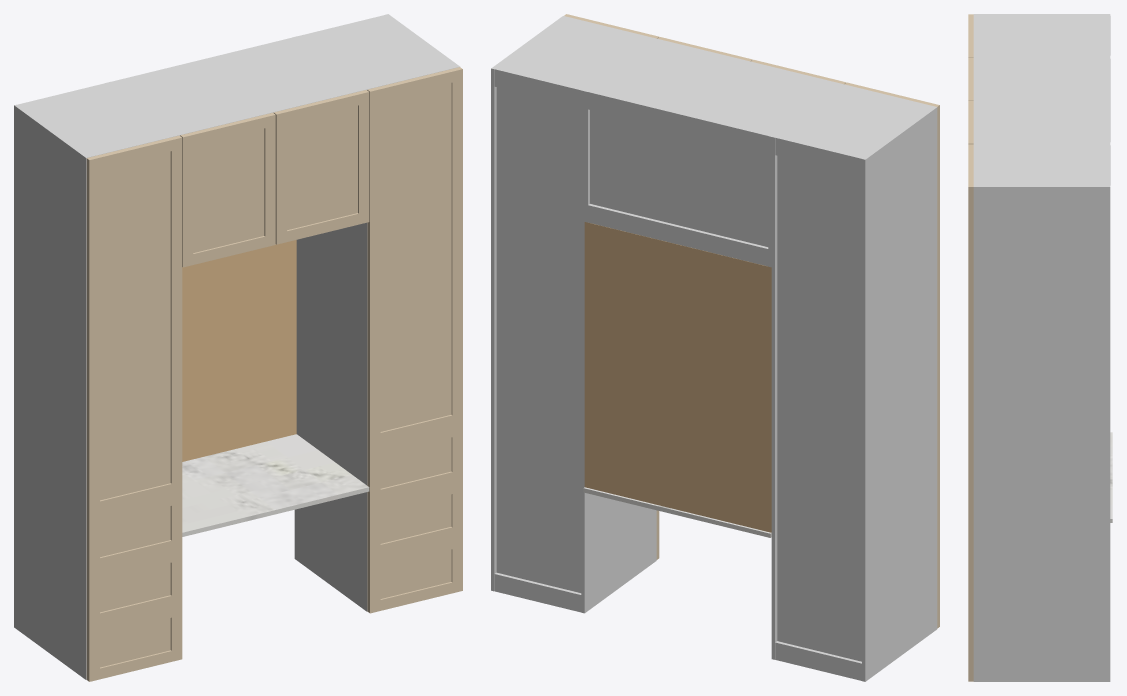
Rendered from Sarita_Abigale.glb.
3 views of the same model, side by side, from view 1: azimuth 30°, elevation 25°; view 2: azimuth 150°, elevation 25°; view 3: azimuth 270°, elevation 25° (orthographic). The views are drawn at different scales.
Visible parts, largest first — view 1: Mixed_005_mesh_000, Mixed_005_mesh_039, Mixed_004_mesh_039, Mixed_004_mesh_000, Kickplate_009_mesh_000, 2_Door_006_mesh_007, Worktop_007_mesh_000, 2_Door_006_mesh_008, 2_Door_006_mesh_009, Mixed_004_mesh_007, Mixed_005_mesh_007, Mixed_005_mesh_043 (+35 smaller); view 2: Kickplate_009_mesh_000, Mixed_004_mesh_006, Mixed_005_mesh_006, Mixed_005_mesh_000, 2_Door_006_mesh_005, 2_Door_006_mesh_007, Mixed_004_mesh_000, Mixed_004_mesh_007, Mixed_005_mesh_007, Mixed_005_mesh_001, 2_Door_006_mesh_003, 2_Door_006_mesh_004 (+11 smaller); view 3: Mixed_004_mesh_001, 2_Door_006_mesh_007, Mixed_005_mesh_007, Mixed_004_mesh_007, Mixed_004_mesh_039, Mixed_004_mesh_043, Mixed_004_mesh_003, Mixed_005_mesh_003, Mixed_004_mesh_000, Mixed_005_mesh_001, 2_Door_006_mesh_000, 2_Door_006_mesh_003 (+3 smaller).
Part boxes in pixels (<box>): Mixed_005_mesh_000: <box>14,104,89,679</box>; Mixed_005_mesh_039: <box>86,135,180,513</box>; Mixed_004_mesh_039: <box>367,67,461,445</box>; Mixed_004_mesh_000: <box>294,36,369,611</box>; Kickplate_009_mesh_000: <box>182,240,296,461</box>; 2_Door_006_mesh_007: <box>114,39,363,134</box>; Worktop_007_mesh_000: <box>182,434,369,536</box>; 2_Door_006_mesh_008: <box>180,112,274,252</box>; 2_Door_006_mesh_009: <box>273,90,367,230</box>; Mixed_004_mesh_007: <box>301,16,455,88</box>; Mixed_005_mesh_007: <box>20,85,174,156</box>; Mixed_005_mesh_043: <box>170,148,182,483</box>; Kickplate_009_mesh_000: <box>584,222,771,532</box>; Mixed_004_mesh_006: <box>496,67,583,592</box>; Mixed_005_mesh_006: <box>777,136,863,661</box>; Mixed_005_mesh_000: <box>862,106,937,681</box>; 2_Door_006_mesh_005: <box>590,90,770,246</box>; 2_Door_006_mesh_007: <box>591,39,839,134</box>; Mixed_004_mesh_000: <box>581,38,656,613</box>; Mixed_004_mesh_007: <box>497,17,652,88</box>; Mixed_005_mesh_007: <box>778,86,931,157</box>; Mixed_005_mesh_001: <box>771,84,846,659</box>; 2_Door_006_mesh_003: <box>588,90,769,153</box>; 2_Door_006_mesh_004: <box>588,204,768,266</box>; Mixed_004_mesh_001: <box>973,185,1110,681</box>; 2_Door_006_mesh_007: <box>973,58,1105,142</box>; Mixed_005_mesh_007: <box>973,15,1105,55</box>; Mixed_004_mesh_007: <box>974,145,1105,185</box>; Mixed_004_mesh_039: <box>970,144,973,523</box>; Mixed_004_mesh_043: <box>968,197,970,512</box>; Mixed_004_mesh_003: <box>973,145,991,185</box>; Mixed_005_mesh_003: <box>973,15,991,55</box>; Mixed_004_mesh_000: <box>973,143,1110,185</box>; Mixed_005_mesh_001: <box>973,55,1110,57</box>; 2_Door_006_mesh_000: <box>973,57,1110,141</box>; 2_Door_006_mesh_003: <box>1106,58,1109,142</box>.
Size of the model in its own units: 1.8 by 2.4 by 0.634.
Materials: 68 (1 with a texture image).
